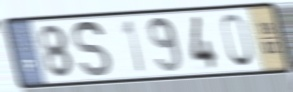0: (221, 12, 254, 69)
1: (121, 18, 147, 75)
4: (189, 13, 220, 72)
8: (38, 23, 75, 80)
9: (147, 16, 184, 74)
S: (72, 19, 114, 80)
